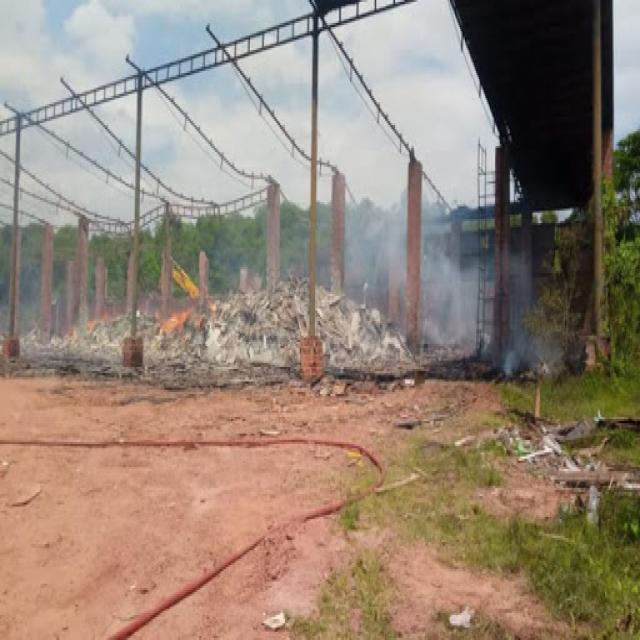Fire: (158, 304, 189, 344), (84, 312, 102, 336)
Smoke: (343, 202, 551, 379), (7, 258, 78, 340)
